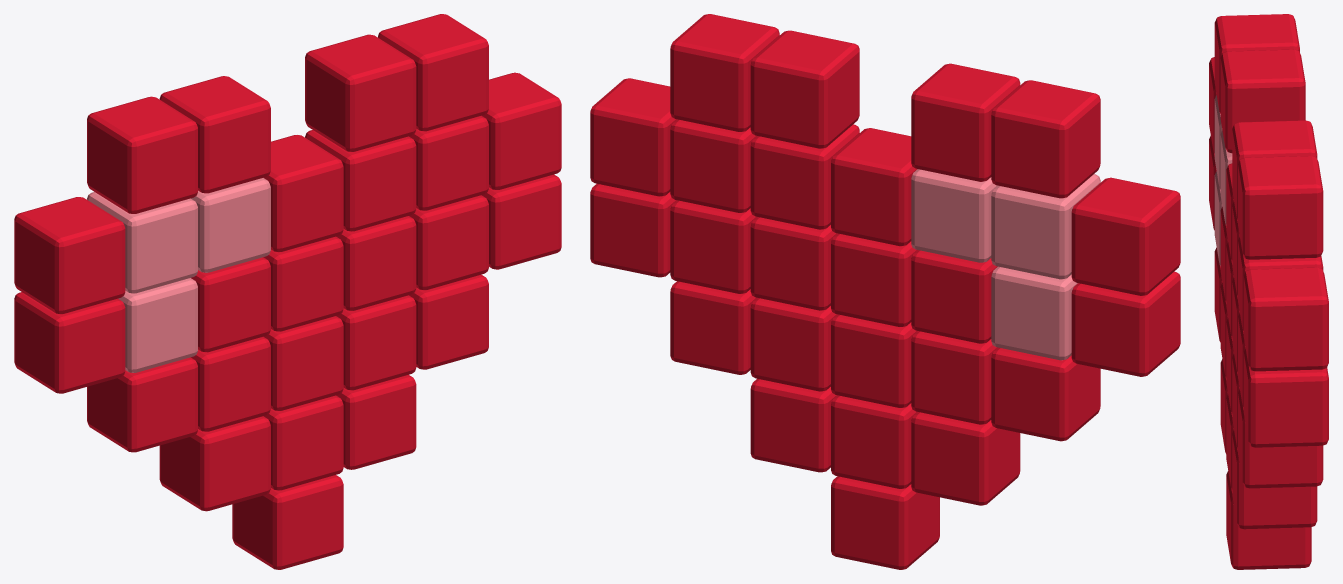
File: heart--pixel.glb
The picture shows the model from 3 angles, left to right: view 1: azimuth 30°, elevation 25°; view 2: azimuth 150°, elevation 25°; view 3: azimuth 270°, elevation 25°; orthographic projection. The views are drawn at different scales.
Visible parts, largest first — view 1: PixelHeart; view 2: PixelHeart; view 3: PixelHeart.
Part boxes in pixels (x1,y1,x2,y2): PixelHeart: [14, 14, 561, 569]; PixelHeart: [590, 14, 1180, 569]; PixelHeart: [1209, 14, 1328, 569].
Size of the model in its own units: 0.9998 by 0.8514 by 0.2038.
